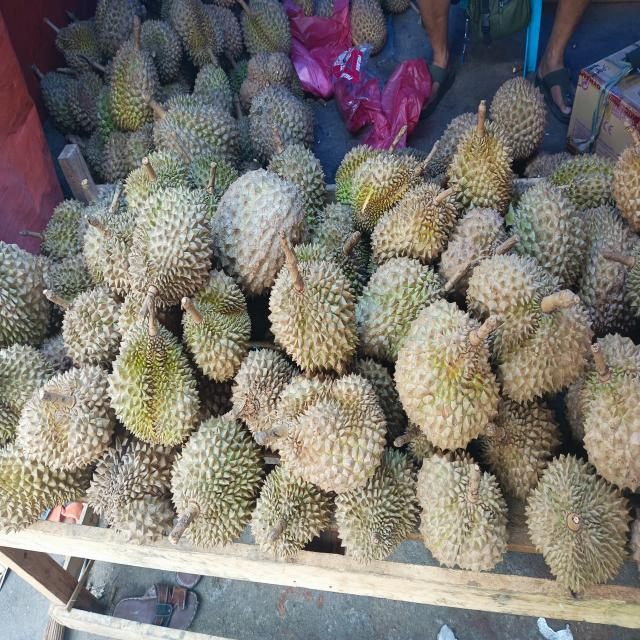mature: (467, 254, 592, 402), (395, 300, 500, 449), (526, 456, 630, 591), (109, 306, 200, 446), (269, 231, 357, 371), (171, 417, 264, 548), (212, 169, 307, 296), (417, 454, 508, 571), (17, 366, 116, 471), (127, 186, 212, 307), (335, 449, 418, 563), (87, 437, 175, 544), (580, 334, 640, 490), (355, 257, 444, 362), (479, 399, 560, 500), (512, 181, 586, 288), (181, 270, 251, 382), (143, 92, 240, 164), (371, 183, 457, 264), (252, 466, 330, 555), (44, 286, 121, 368), (448, 117, 512, 213), (230, 349, 300, 434), (440, 207, 507, 295), (110, 17, 159, 130), (0, 241, 49, 348), (268, 144, 325, 225), (491, 77, 546, 160), (124, 150, 187, 209), (41, 200, 84, 260)
